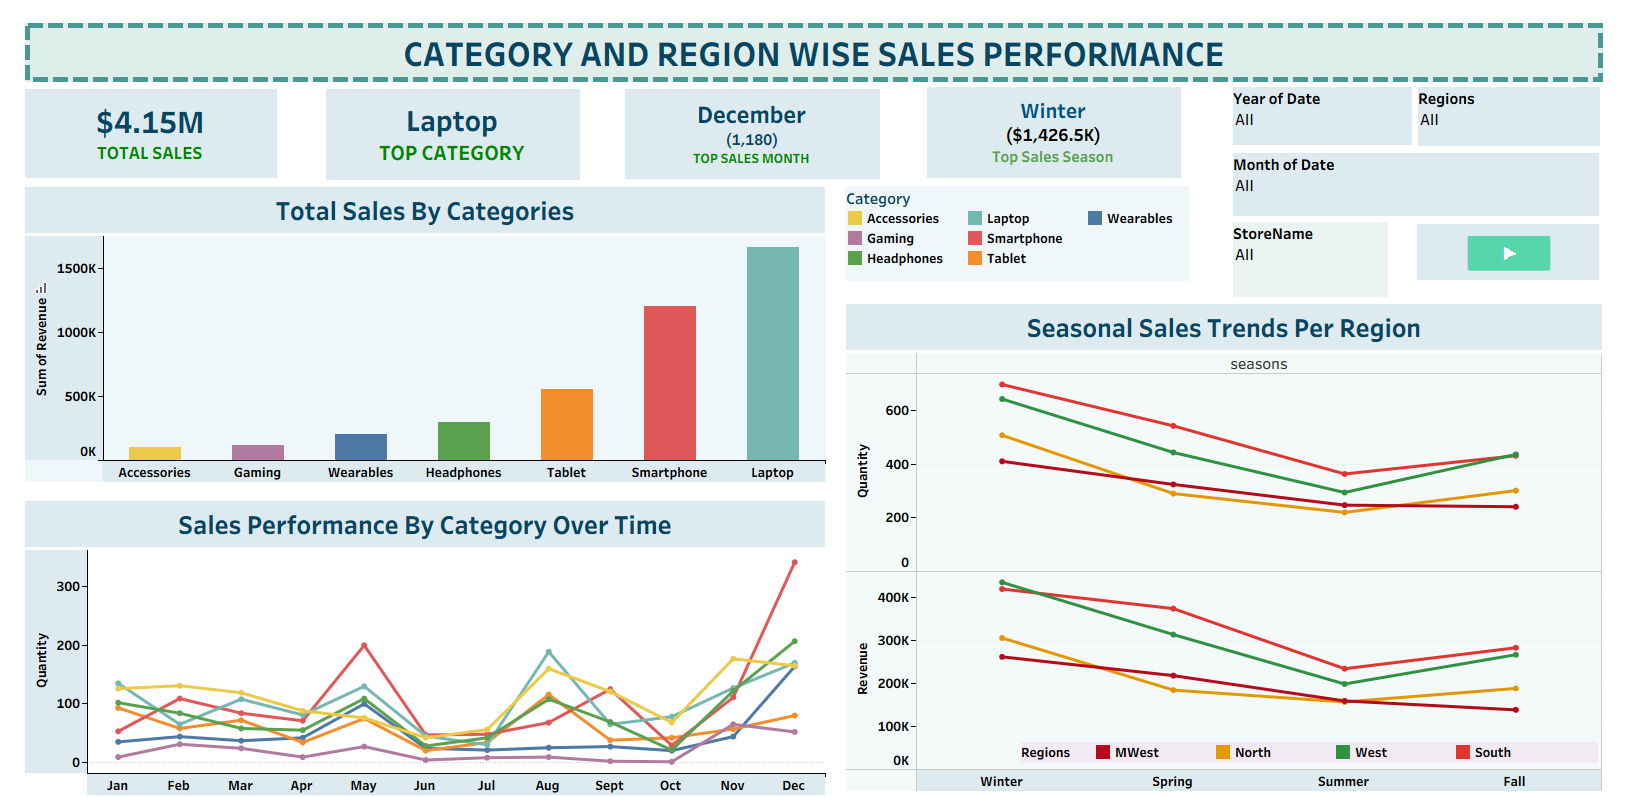

What the dashboard file says about the page in this screenshot:
{"tool":"tableau","page":{"name":"Dashboard 1","canvas":[1000,1000],"units":"permille","ordinal":0},"visuals":[{"type":"worksheet","title":"Sheet 8 (2)","mark":"Automatic","box":[16.3,15.1,966.7,70.2]},{"type":"worksheet","title":"1-1 (2)","mark":"Automatic","box":[16.3,84.2,156.2,116.6]},{"type":"worksheet","title":"1-2 (2)","mark":"Automatic","box":[200.4,84.2,156.8,117.7]},{"type":"worksheet","title":"1-3 (2)","mark":"Automatic","box":[384.4,84.2,156.2,117.7]},{"type":"worksheet","title":"1-4 (2)","mark":"Automatic","box":[569,84.2,155,117.7]},{"type":"legend","title":"Revenue % by Category (2)","param":"[federated.1gkqmtb0ybhmqn11lutji0awsm6i (copy 2)].[none:Category:nk]","box":[753.6,101.5,228.2,235.4]},{"type":"filter","title":"1.Revenue by Region and Month (2)","param":"[federated.1gkqmtb0ybhmqn11lutji0awsm6i (copy 2)].[tyr:Date:ok]","box":[884,104.2,96,74.4]},{"type":"filter","title":"1.Revenue by Region and Month (2)","param":"[federated.1gkqmtb0ybhmqn11lutji0awsm6i (copy 2)].[none:Category:nk]","box":[884,183.6,96.6,70.7]},{"type":"worksheet","title":"7.Monthly Growth Rate in Revenue (2)","mark":"Automatic","rows":["Revenue"],"cols":["Date"],"box":[16.9,217.1,490.3,370.4]},{"type":"legend","title":"7.Monthly Growth Rate in Revenue (2)","param":"[federated.1gkqmtb0ybhmqn11lutji0awsm6i (copy 2)].[:Measure Names]","box":[518.2,217.1,211.3,118.8]},{"type":"filter","title":"1.Revenue by Region and Month (2)","param":"[federated.1gkqmtb0ybhmqn11lutji0awsm6i (copy 2)].[none:StoreName:nk]","box":[884,260.6,96.6,70.7]},{"type":"worksheet","title":"Revenue % by Category (2)","mark":"Pie","box":[520,362.9,461.9,606.9]},{"type":"legend","title":"Revenue % by Category (2)","param":"[federated.1gkqmtb0ybhmqn11lutji0awsm6i (copy 2)].[sum:Revenue:qk]","box":[837.8,425.5,144.1,72.4]},{"type":"filter","title":"1.Revenue by Region and Month (2)","param":"[federated.1gkqmtb0ybhmqn11lutji0awsm6i (copy 2)].[mn:Date:ok]","box":[521.5,429.3,104.7,75.7]},{"type":"worksheet","title":"1.Revenue by Region and Month (2)","mark":"Line","rows":["Revenue"],"cols":["Date"],"box":[17.6,605.8,489.1,365]},{"type":"legend","title":"1.Revenue by Region and Month (2)","param":"[federated.1gkqmtb0ybhmqn11lutji0awsm6i (copy 2)].[none:Region:nk]","box":[67.2,665.2,355.9,34.6]},{"type":"filter","title":"Revenue % by Category (2)","param":"[federated.1gkqmtb0ybhmqn11lutji0awsm6i (copy 2)].[none:Region:nk]","box":[520.9,882.1,83.1,88.1]},{"type":"dashboard-object","param":"[com.tableau.extensions.filterbookmarks.sandboxed].[1.0.0].[https://extensions.t","box":[918.9,912.5,63,56.2]}]}

Visuals, with their boxes on the dashboard's canvas, which has no fixed pixel size, in thousandths of its width and height (x1, y1, x2, y2). These are canvas units, not pixel positions in the 1628x797 screenshot, which may show the page scaled, cropped or inside an application window:
"Sheet 8 (2)" worksheet: detection(16, 15, 983, 85)
"1-1 (2)" worksheet: detection(16, 84, 172, 201)
"1-2 (2)" worksheet: detection(200, 84, 357, 202)
"1-3 (2)" worksheet: detection(384, 84, 541, 202)
"1-4 (2)" worksheet: detection(569, 84, 724, 202)
"Revenue % by Category (2)" legend: detection(754, 102, 982, 337)
"1.Revenue by Region and Month (2)" filter: detection(884, 104, 980, 179)
"1.Revenue by Region and Month (2)" filter: detection(884, 184, 981, 254)
"7.Monthly Growth Rate in Revenue (2)" worksheet: detection(17, 217, 507, 588)
"7.Monthly Growth Rate in Revenue (2)" legend: detection(518, 217, 730, 336)
"1.Revenue by Region and Month (2)" filter: detection(884, 261, 981, 331)
"Revenue % by Category (2)" worksheet (Pie marks): detection(520, 363, 982, 970)
"Revenue % by Category (2)" legend: detection(838, 426, 982, 498)
"1.Revenue by Region and Month (2)" filter: detection(522, 429, 626, 505)
"1.Revenue by Region and Month (2)" worksheet (Line marks): detection(18, 606, 507, 971)
"1.Revenue by Region and Month (2)" legend: detection(67, 665, 423, 700)
"Revenue % by Category (2)" filter: detection(521, 882, 604, 970)
dashboard-object: detection(919, 912, 982, 969)
